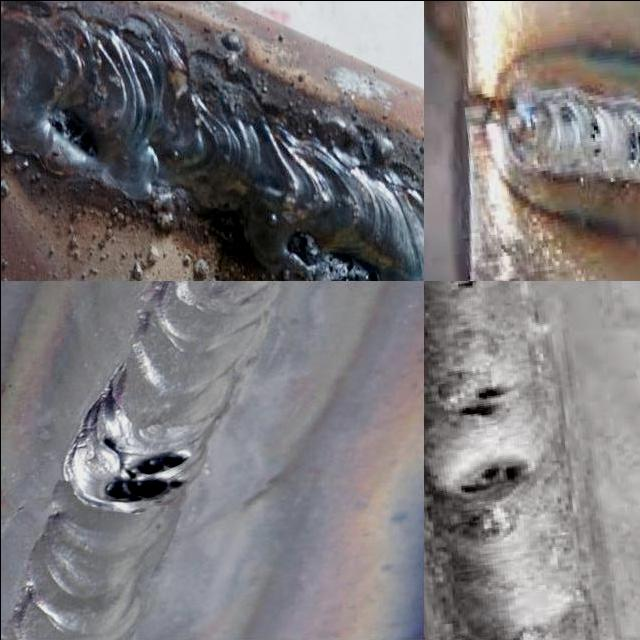defect: (95, 445, 198, 511), (287, 228, 384, 281), (446, 453, 534, 502), (45, 102, 103, 165), (448, 384, 518, 426), (587, 115, 605, 158), (623, 127, 640, 170), (450, 281, 484, 298)
